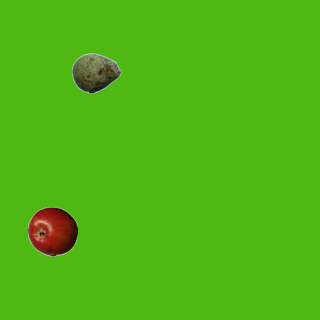Apple Braeburn: (27, 206, 77, 256)
Pear Stone: (71, 48, 121, 98)
